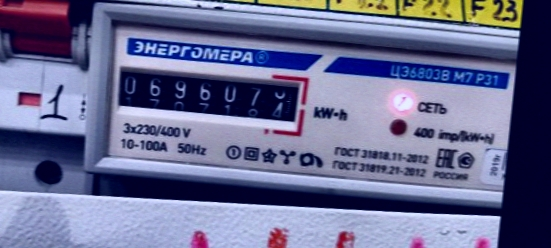0: (221, 79, 239, 102), (122, 72, 138, 94)
4: (270, 97, 285, 119)
6: (147, 73, 163, 96), (196, 78, 212, 100)
7: (246, 84, 263, 106)
9: (172, 76, 187, 98)
screen: (103, 53, 314, 133)
